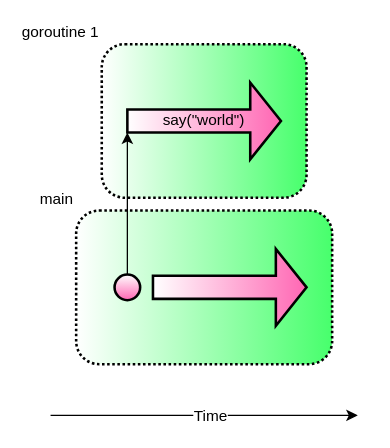
Image size: 390x448. Some labels were removed from this diagram. The centre of each missing label's shape, as x and y in pixels:
go: [127,287]
say("hello"): [229,286]
